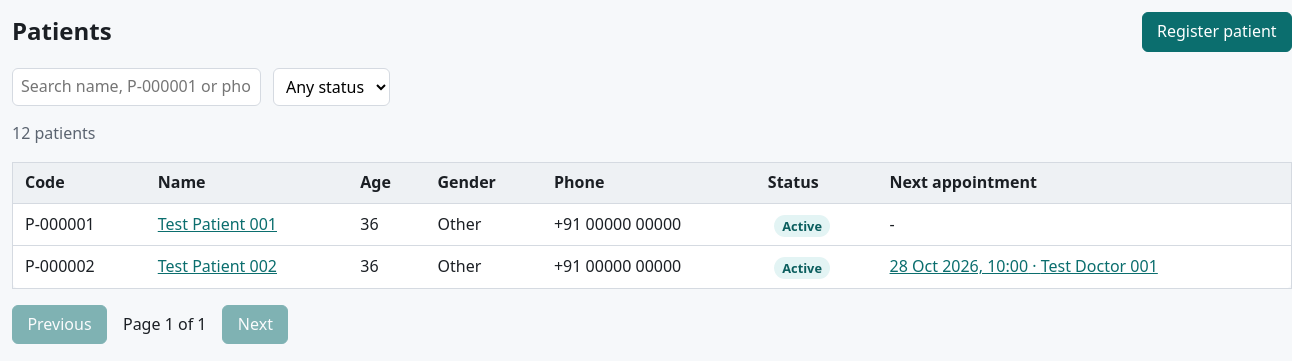
Test: PatientsPage match count (LIVE-1) › REQ-2: the count follows a change of the search text
The image size is (1292, 361).
Expected: the text "12 patients" is shown, x1=12 y1=122 x2=96 y2=144
Type "Test Patient 001" into the field named "Search by name, code or phone".
click(136, 87); type("Test Patient 001")  # box x1=12 y1=68 x2=261 y2=106
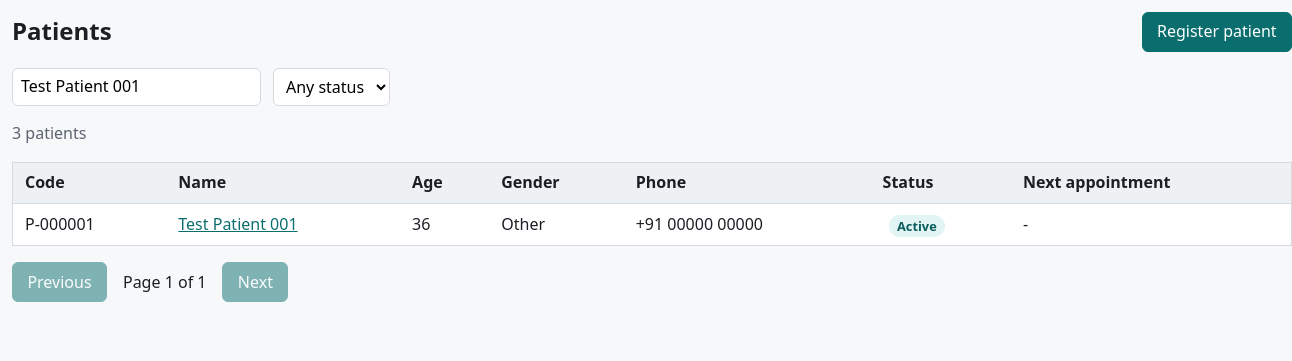
Now the text "3 patients" is shown, box x1=12 y1=122 x2=86 y2=144
Now the text "12 patients" is gone
